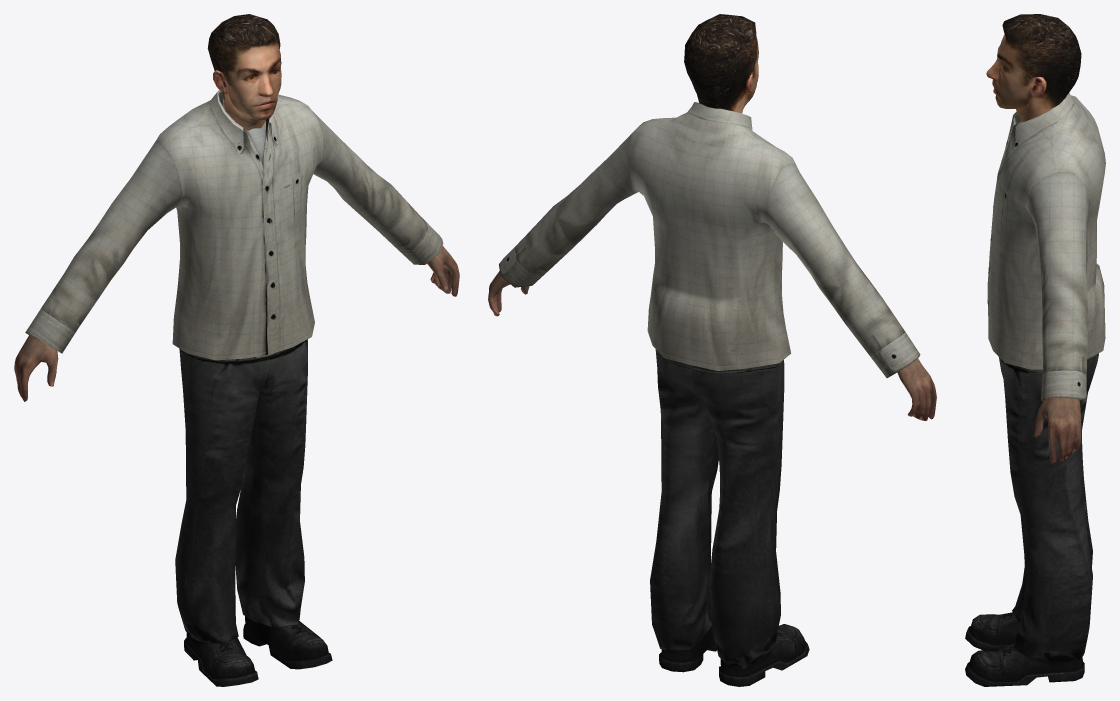
Rendered from Stanley.fbx.
3 views of the same model, side by side, from view 1: azimuth 30°, elevation 25°; view 2: azimuth 150°, elevation 25°; view 3: azimuth 270°, elevation 25° (orthographic).
Visible parts, largest first — view 1: stanley_ref.stanley_ref.smd.mesh_0, stanley_ref.stanley_ref.smd.mesh_1; view 2: stanley_ref.stanley_ref.smd.mesh_0, stanley_ref.stanley_ref.smd.mesh_1; view 3: stanley_ref.stanley_ref.smd.mesh_0, stanley_ref.stanley_ref.smd.mesh_1.
Part boxes in pixels (box(x1,y1,x2,y2)): stanley_ref.stanley_ref.smd.mesh_0: box(14, 90, 459, 686); stanley_ref.stanley_ref.smd.mesh_1: box(207, 14, 281, 130); stanley_ref.stanley_ref.smd.mesh_0: box(488, 102, 936, 686); stanley_ref.stanley_ref.smd.mesh_1: box(684, 14, 758, 113); stanley_ref.stanley_ref.smd.mesh_0: box(965, 93, 1105, 686); stanley_ref.stanley_ref.smd.mesh_1: box(986, 14, 1081, 121).
Size of the model in its own units: 52.19 by 72.34 by 14.43.
2 materials, 2 textured.
